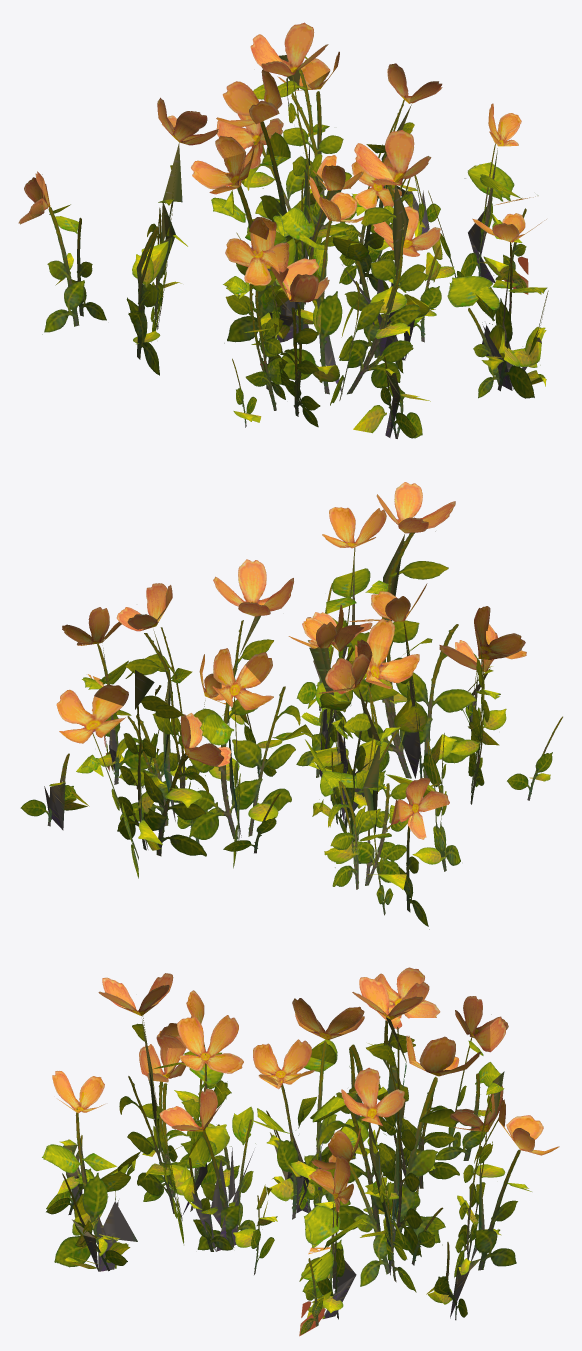
Rendered from 4006_Item_hua_3.FBX.
3 renders of one model, top to bottom at view 1: azimuth 30°, elevation 25°; view 2: azimuth 150°, elevation 25°; view 3: azimuth 270°, elevation 25°, orthographic. The views are drawn at different scales.
Parts seen in each view (by area): view 1: 4006_Item_hua_3; view 2: 4006_Item_hua_3; view 3: 4006_Item_hua_3.
Boxes of the visible parts, x1,y1,x2,y2 form: 4006_Item_hua_3: [18, 22, 548, 438]; 4006_Item_hua_3: [20, 482, 562, 929]; 4006_Item_hua_3: [42, 967, 559, 1336].
Size of the model in its own units: 190 by 115 by 209.
